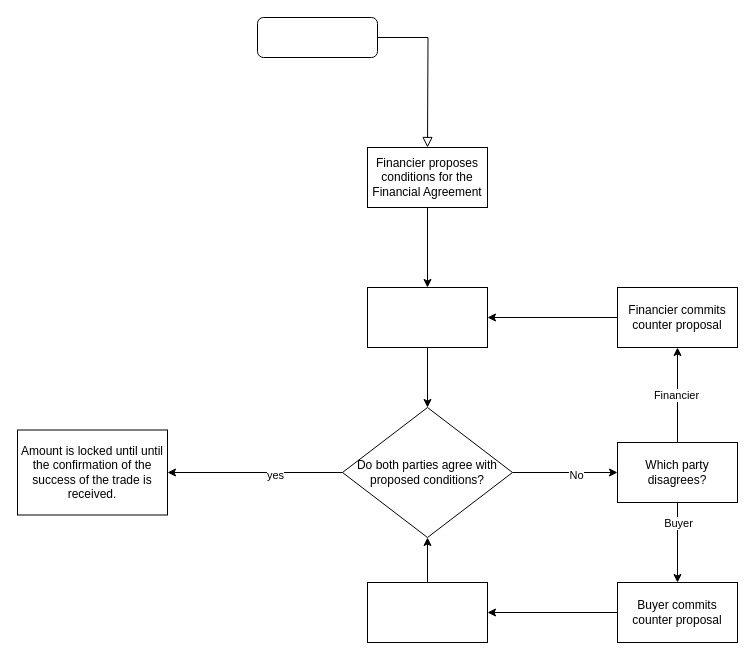
The diagram is 755 pixels wide and 660 high, and some of its shapes have lost their labels. Here are the shapes that lost their labels. From the top down, the box of each, then its label:
(256, 16, 378, 58): Start
(366, 286, 488, 348): Buyer Analyses proposed conditions.
(366, 582, 488, 642): Financier Analyses proposed conditions.
